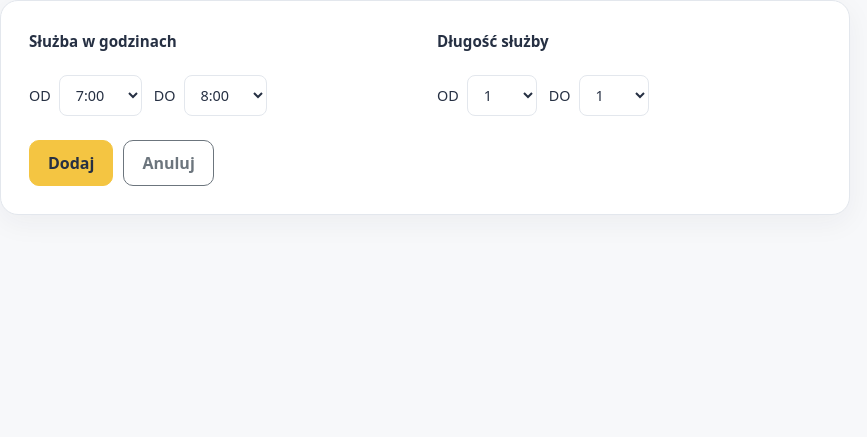
Scenario: CreateProposalForm › udostępnia przerwę tylko gdy mieści się obok minimalnej służby
The image size is (867, 437).
expect the element "Przerwa" is not shown: met
Select "10:00" in the dropdown named "Służba do": (225,96) [184, 75, 266, 116]
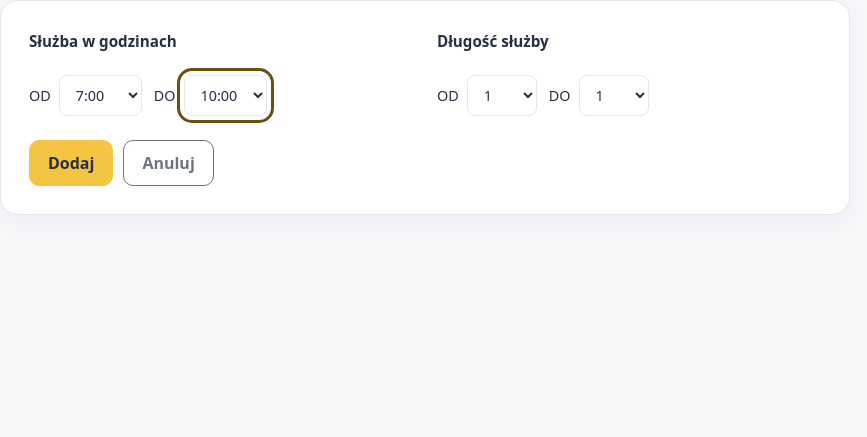
expect the element "Przerwa" is not shown: met
Select "3" in the dropdown named "Długość służby do": (614,96) [578, 75, 648, 116]
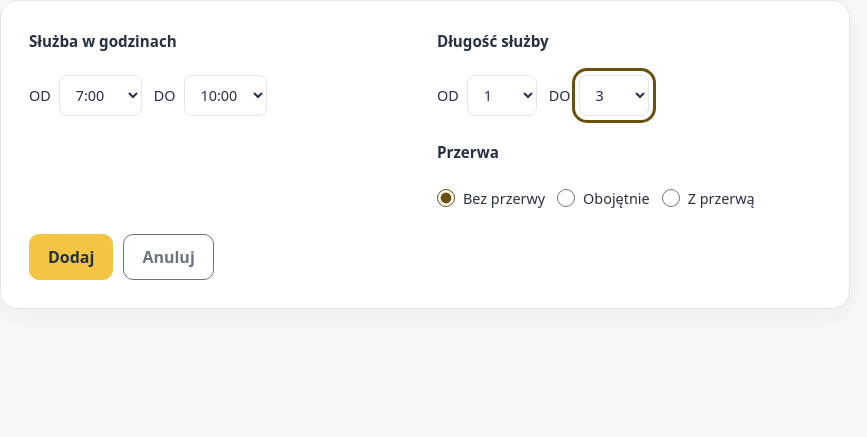
Click the radio button labelled "Z przerwą": (671,198) [662, 189, 680, 207]
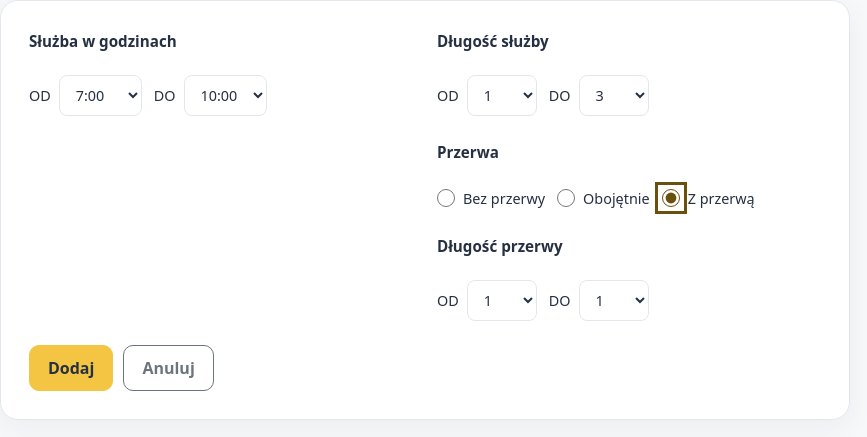
expect the dropdown named "Długość przerwy od" is shown: met, box [467, 280, 537, 321]
Select "1" in the dropdown named "Długość służby do": (614,96) [578, 75, 648, 116]
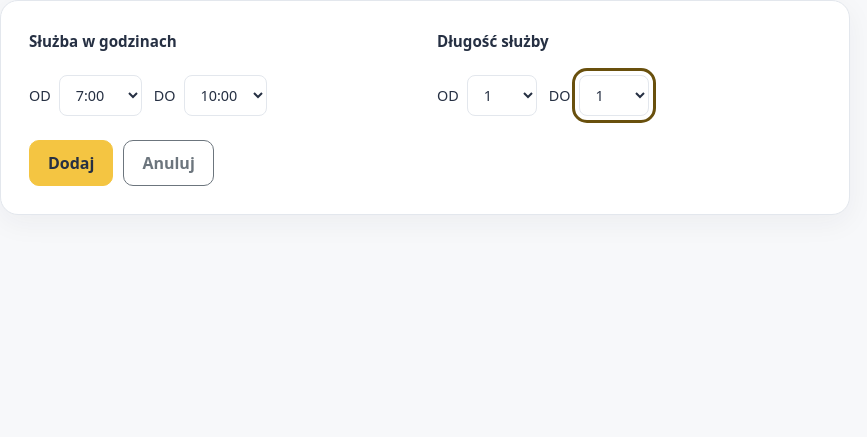
expect the text "Przerwa" is gone: met
